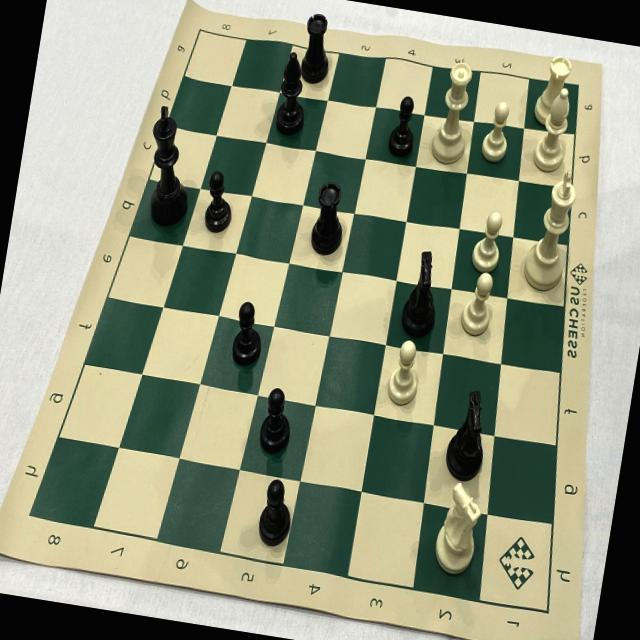black-bishop: (268, 44, 316, 145)
black-king: (131, 97, 206, 236)
black-knight: (435, 379, 498, 492), (394, 245, 449, 346)
black-pawn: (252, 471, 300, 552), (225, 294, 272, 374), (253, 382, 300, 459), (380, 91, 423, 164), (198, 164, 239, 240)
black-rook: (303, 174, 355, 265), (293, 2, 341, 92)
white-bishop: (528, 80, 580, 178)
white-king: (514, 162, 588, 298)
white-knight: (424, 475, 494, 583)
white-pawn: (380, 336, 429, 412), (456, 266, 502, 343), (475, 94, 519, 170), (468, 204, 510, 278)
white-queen: (422, 49, 484, 172)
white-rook: (526, 49, 576, 133)
